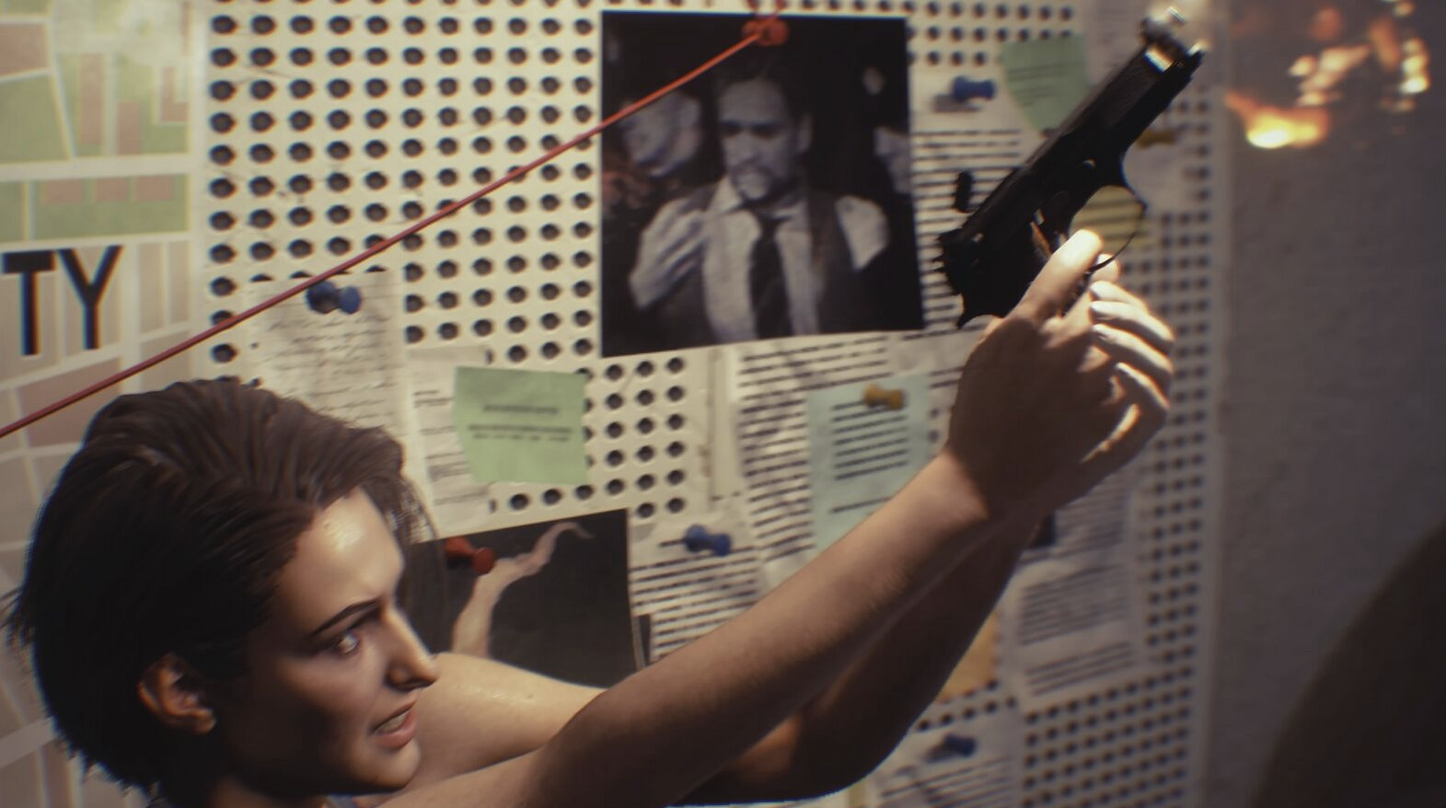gun_017: (919, 17, 1214, 348)
